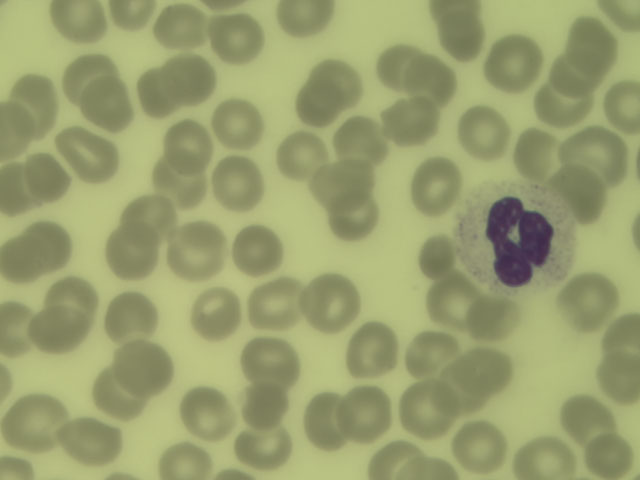RBC: (146, 155, 211, 205), (560, 168, 608, 228), (188, 290, 243, 338), (278, 129, 326, 182), (107, 225, 155, 278), (125, 190, 173, 243), (164, 118, 212, 171), (22, 149, 70, 202), (16, 73, 64, 126), (64, 125, 112, 178), (84, 76, 132, 129), (136, 64, 184, 117), (168, 52, 216, 105), (216, 10, 264, 63), (1, 232, 48, 285), (305, 388, 346, 448), (65, 52, 119, 97), (242, 338, 294, 384), (405, 333, 458, 378), (94, 371, 147, 416), (114, 345, 167, 390), (104, 295, 157, 340), (44, 276, 97, 321), (32, 305, 85, 350), (341, 390, 394, 435), (303, 280, 356, 325), (248, 280, 301, 325), (240, 422, 293, 467), (238, 381, 291, 426), (211, 159, 264, 204), (217, 100, 270, 145), (232, 228, 285, 273), (172, 226, 225, 271), (178, 389, 231, 434), (155, 435, 208, 480), (67, 417, 120, 462), (4, 398, 57, 443), (563, 279, 616, 324), (581, 435, 634, 480), (560, 394, 613, 439), (453, 424, 506, 469), (367, 435, 420, 480), (538, 79, 591, 124), (549, 52, 602, 97), (565, 15, 618, 60), (408, 162, 461, 207), (456, 107, 509, 152), (488, 36, 541, 81), (437, 14, 490, 59), (375, 42, 428, 87), (386, 101, 439, 146), (333, 120, 386, 165), (314, 163, 367, 208), (327, 193, 380, 238), (289, 81, 342, 126), (309, 53, 362, 98), (343, 326, 396, 371), (449, 359, 502, 404), (466, 294, 519, 339), (425, 277, 478, 322), (400, 386, 453, 431), (572, 129, 625, 174), (512, 127, 565, 172), (597, 352, 640, 406), (415, 230, 460, 281), (158, 3, 205, 51), (26, 221, 74, 267), (517, 441, 573, 480), (1, 160, 35, 223), (53, 1, 104, 41), (275, 1, 338, 33), (1, 98, 35, 154), (603, 317, 640, 367), (409, 63, 457, 100), (611, 79, 640, 134), (1, 300, 31, 353), (430, 1, 489, 26), (404, 456, 459, 480), (108, 1, 153, 29), (608, 1, 640, 33)
WBC: (460, 182, 574, 289)
